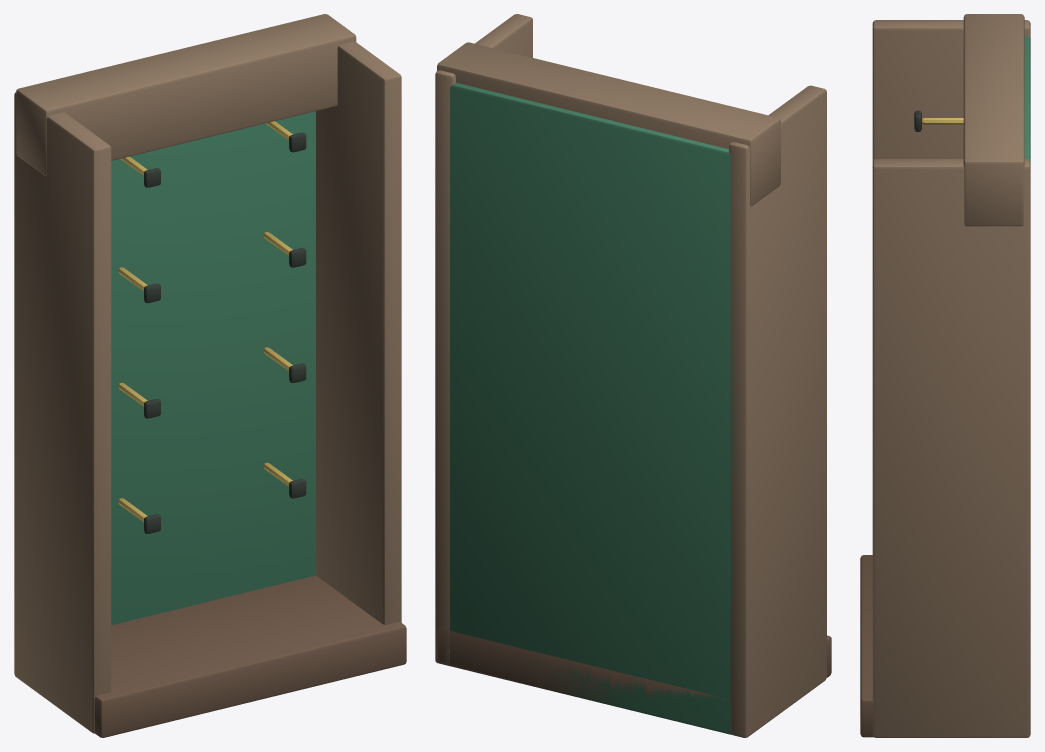
File: hat_wall.glb
3 renders of one model, left to right at view 1: azimuth 30°, elevation 25°; view 2: azimuth 150°, elevation 25°; view 3: azimuth 270°, elevation 25°, orthographic. The views are drawn at different scales.
Parts seen in each view (by area): view 1: hat_wall; view 2: hat_wall; view 3: hat_wall.
Boxes of the visible parts, left/top/right/bottom form: hat_wall: left=14, top=14, right=406, bottom=737; hat_wall: left=435, top=14, right=831, bottom=737; hat_wall: left=860, top=14, right=1030, bottom=737.
Size of the model in its own units: 1.16 by 2.1 by 0.56.
